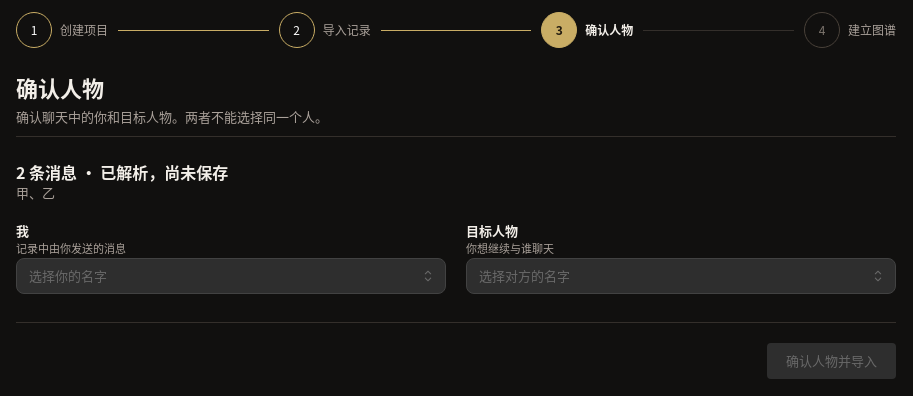
旧预览中的系统发送者也不会出现在人物选项中
Click the dropdown labelled "我" at (231, 276), box x1=16 y1=258 x2=446 y2=294
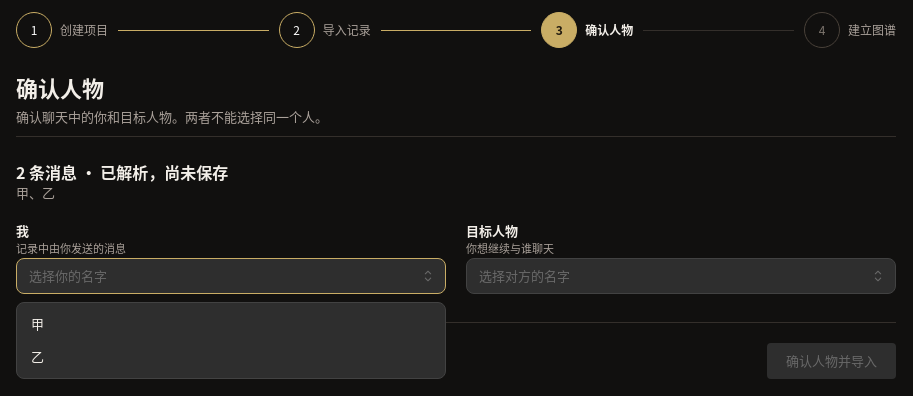
Expected: the button "确认人物并导入" is disabled, x1=767 y1=343 x2=896 y2=379
Result: the option "甲" is shown at x1=31 y1=314 x2=44 y2=333
